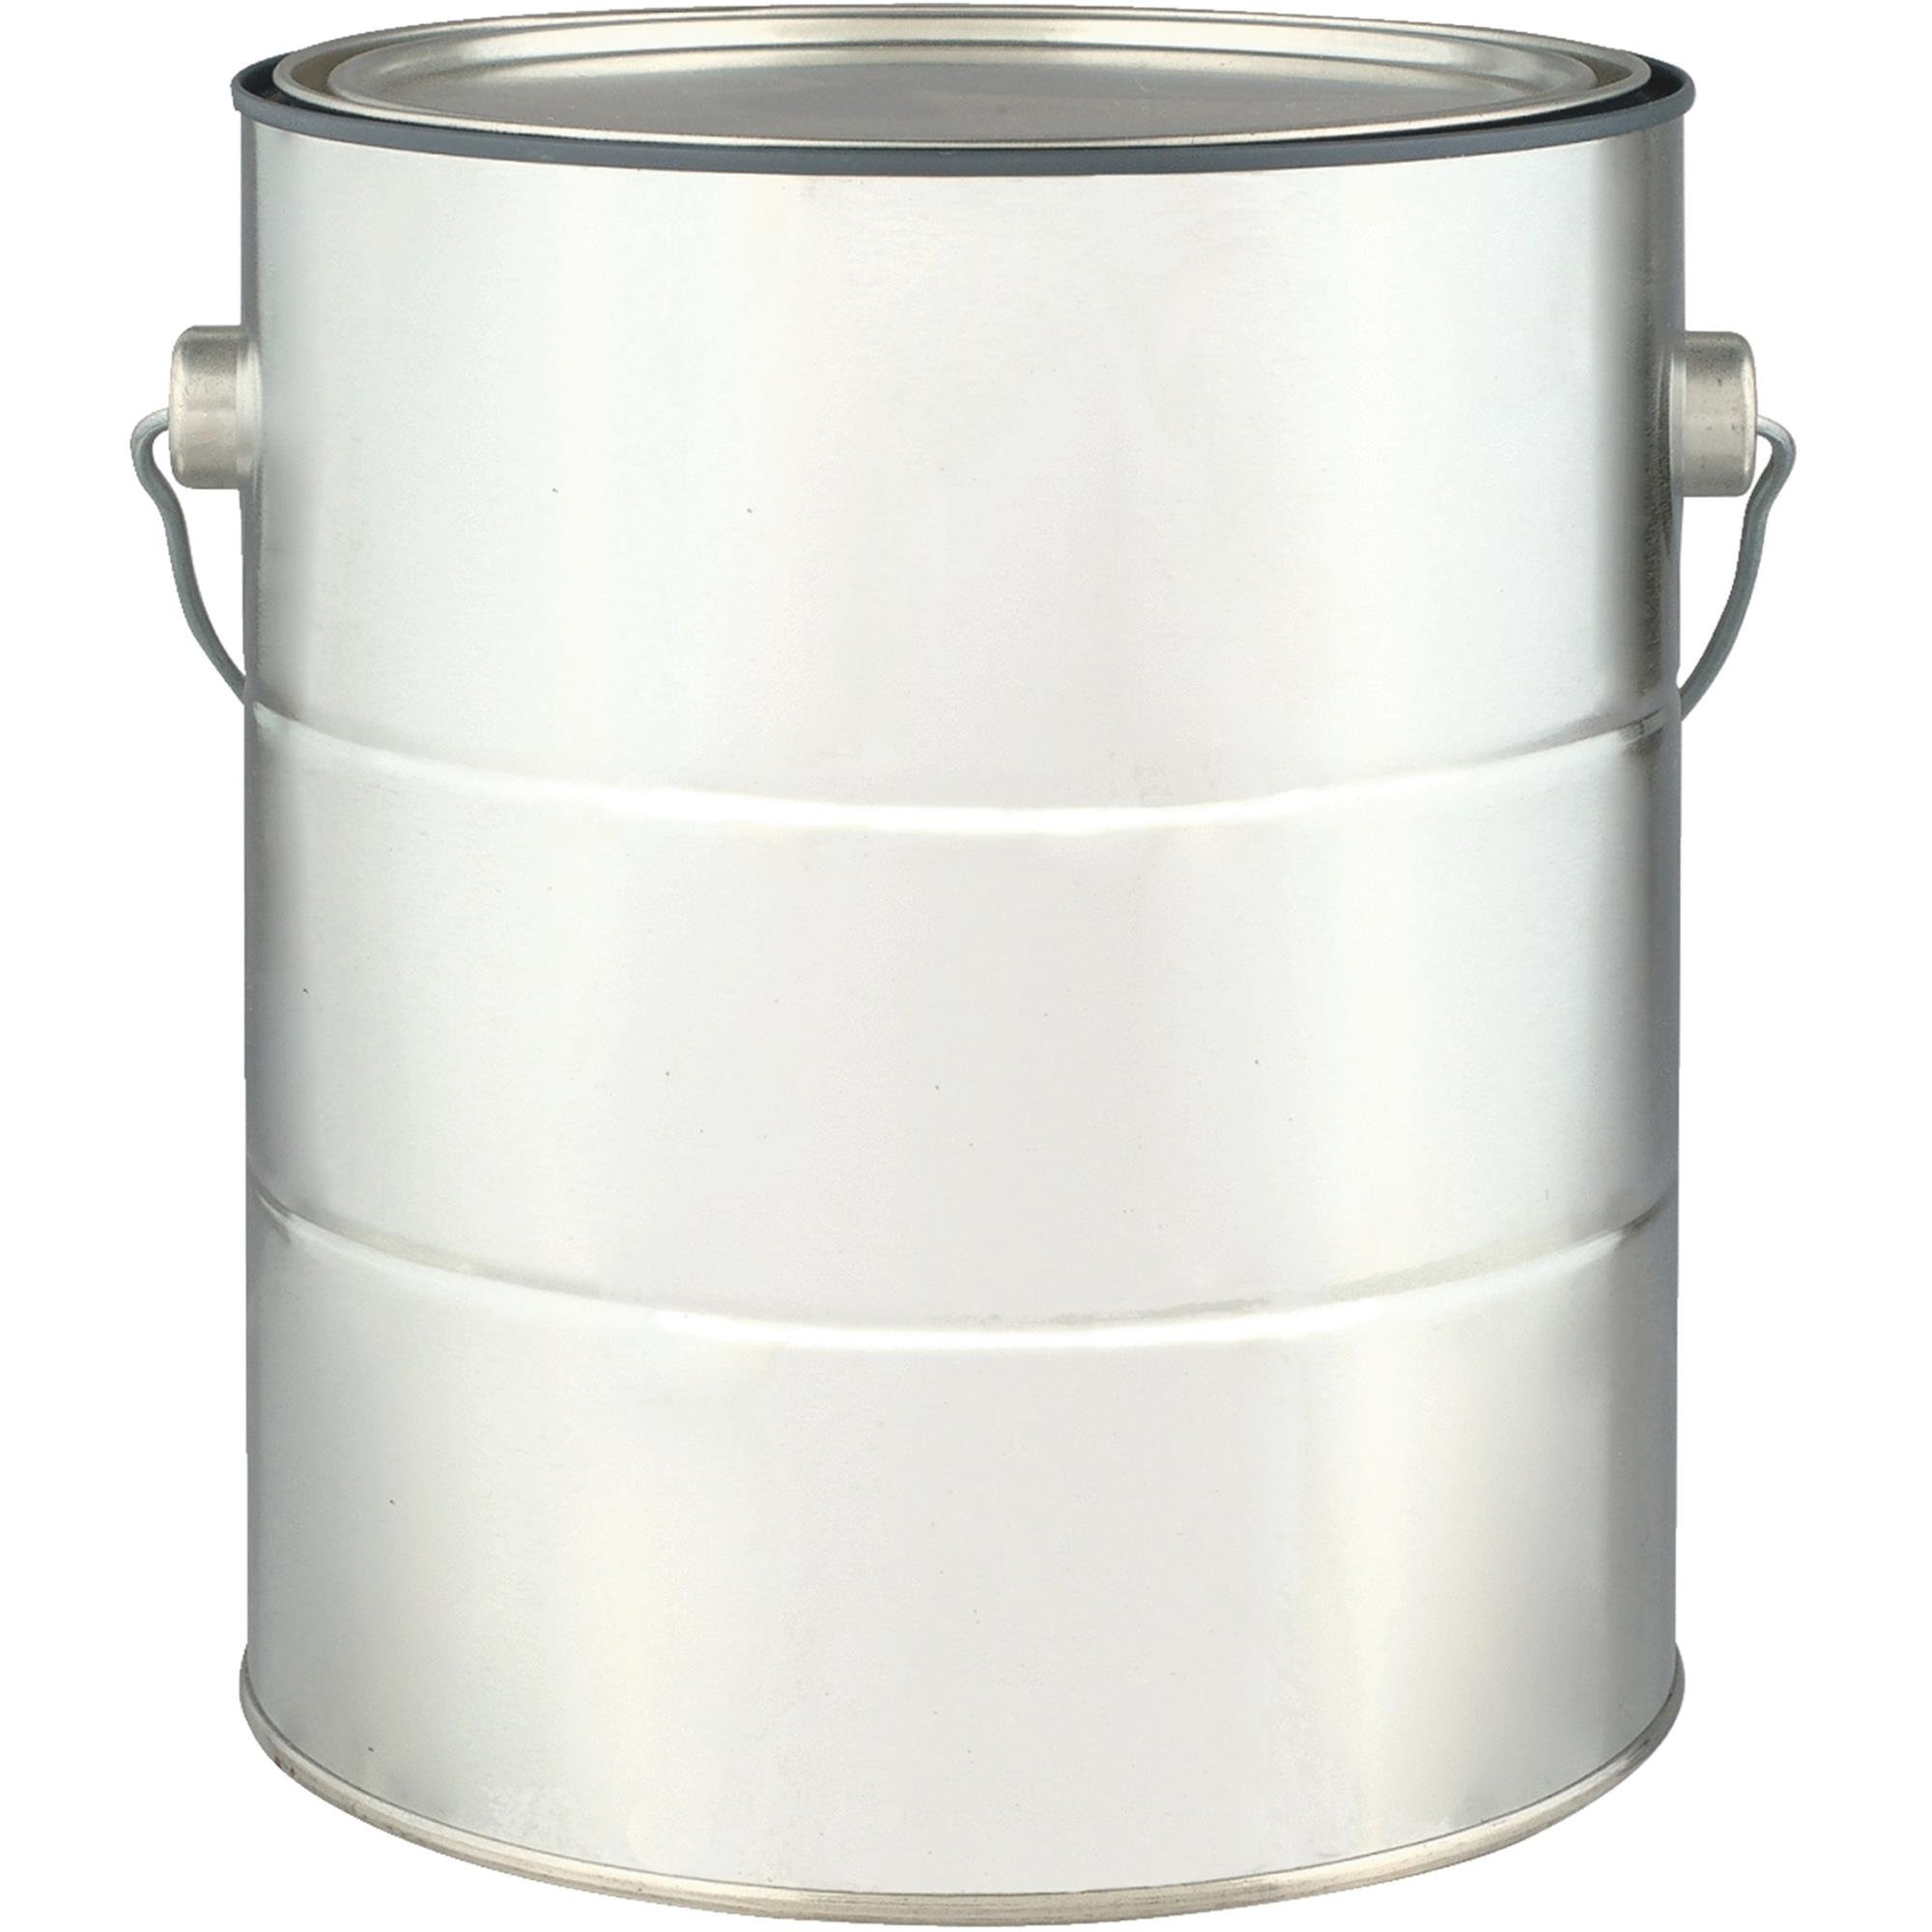metal: (124, 2, 1810, 1932)
